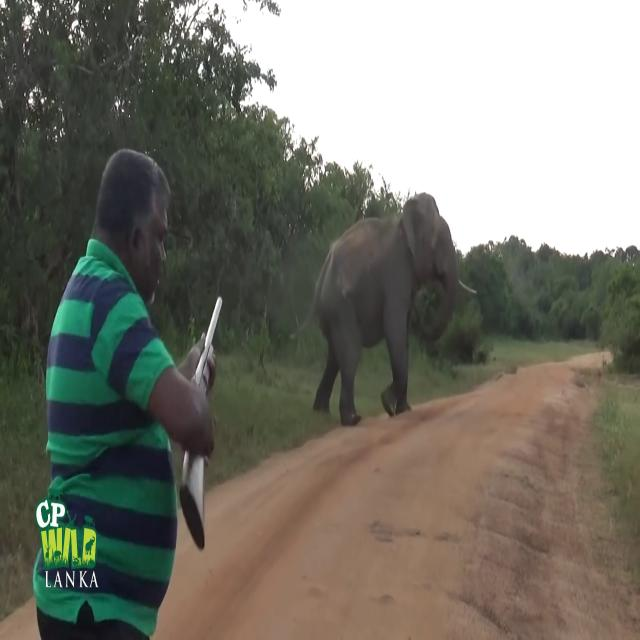Elephant: (289, 190, 478, 427)
person: (32, 147, 216, 639)
